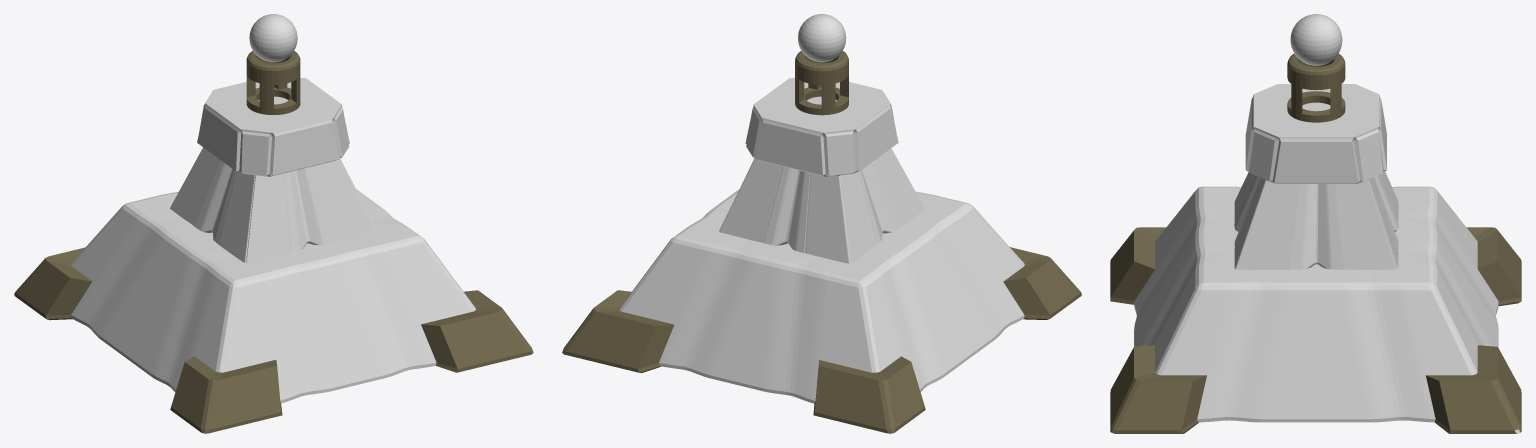
File: Level2.fbx
3 renders of one model, left to right at view 1: azimuth 30°, elevation 25°; view 2: azimuth 150°, elevation 25°; view 3: azimuth 270°, elevation 25°, orthographic. The views are drawn at different scales.
Visible parts, largest first — view 1: base, Crystal; view 2: base, Crystal; view 3: base, Crystal.
Boxes of the visible parts, x1,y1,x2,y2 form: base: (14, 51, 533, 433); Crystal: (249, 14, 297, 62); base: (562, 51, 1081, 433); Crystal: (798, 14, 846, 62); base: (1110, 53, 1521, 433); Crystal: (1290, 14, 1342, 65).
Bounding box in the file's own units: 304 × 271 × 304.
